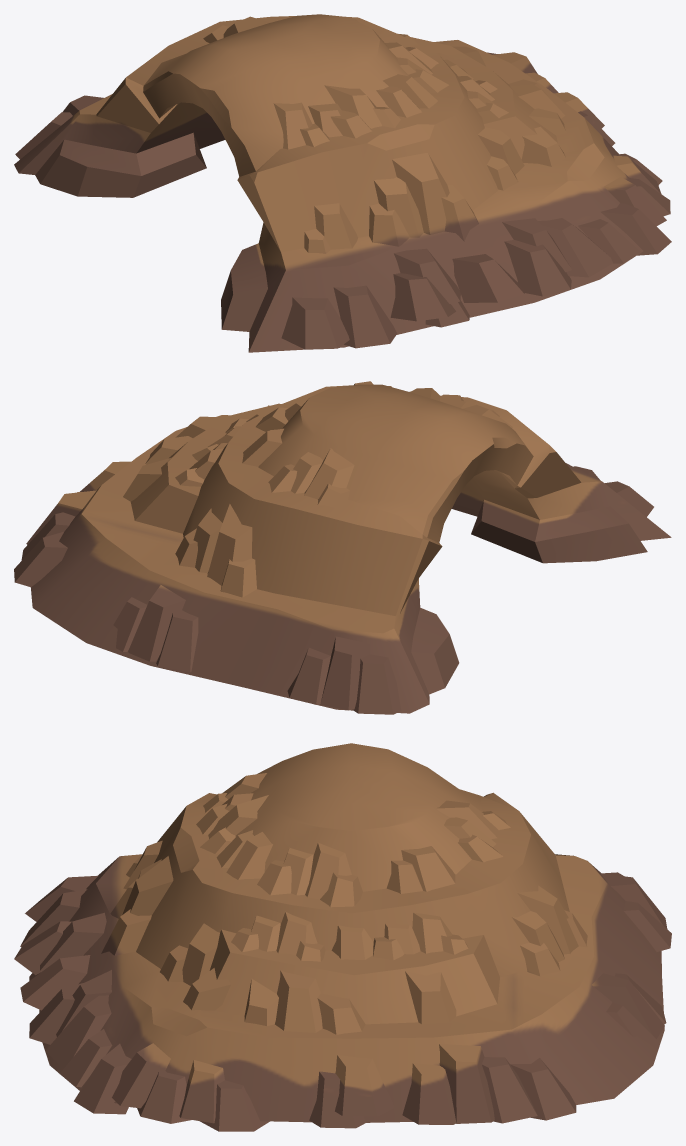
The model's file is mdl_mountain.fbx.
3 views of the same model, one above another, from view 1: azimuth 30°, elevation 25°; view 2: azimuth 150°, elevation 25°; view 3: azimuth 270°, elevation 25° (orthographic). The views are drawn at different scales.
Parts seen in each view (by area): view 1: mdl_mountain; view 2: mdl_mountain; view 3: mdl_mountain.
Part boxes in pixels (<box>): mdl_mountain: <box>14,14,671,352</box>; mdl_mountain: <box>14,381,671,714</box>; mdl_mountain: <box>14,743,671,1131</box>.
Size of the model in its own units: 38.18 by 14.17 by 41.73.
